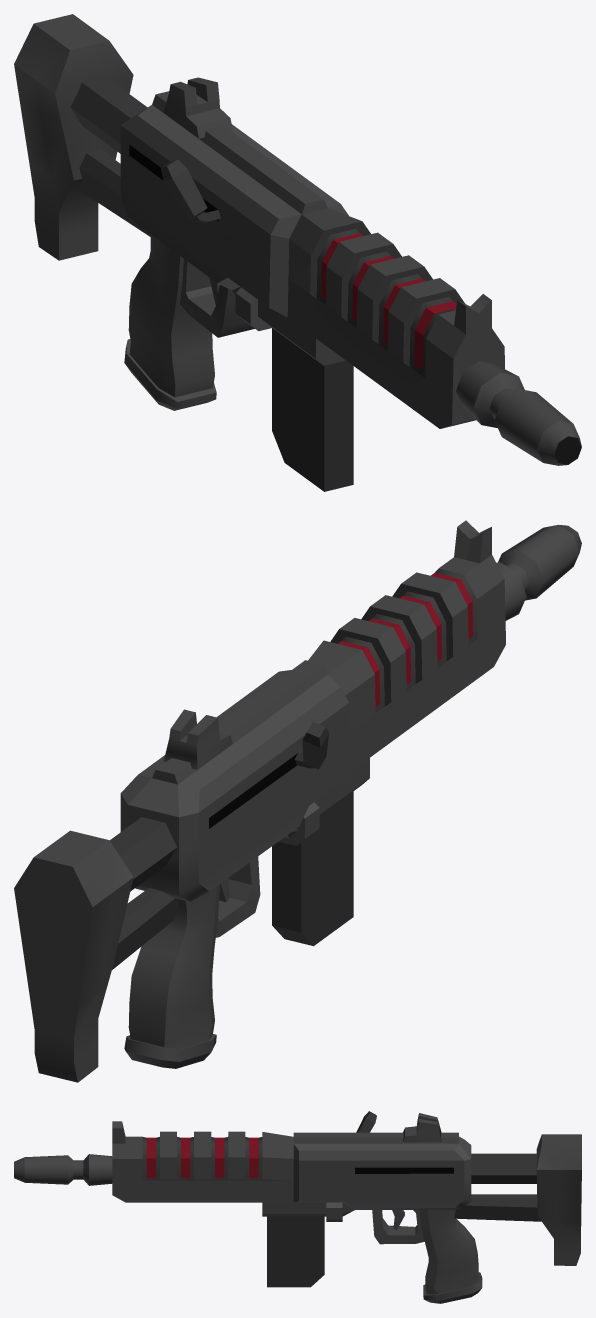
File: Laser Carbine.fbx
3 views of the same model, one above another, from view 1: azimuth 30°, elevation 25°; view 2: azimuth 150°, elevation 25°; view 3: azimuth 270°, elevation 25° (orthographic). The views are drawn at different scales.
Visible parts, largest first — view 1: Laser Carbine, Laser Carbine.Magazine; view 2: Laser Carbine, Laser Carbine.Magazine; view 3: Laser Carbine, Laser Carbine.Magazine.
Boxes of the visible parts, box(x1,y1,x2,y2) form: Laser Carbine: box(14, 14, 581, 465); Laser Carbine.Magazine: box(272, 328, 353, 491); Laser Carbine: box(14, 520, 581, 1082); Laser Carbine.Magazine: box(272, 791, 353, 946); Laser Carbine: box(14, 1111, 581, 1303); Laser Carbine.Magazine: box(267, 1216, 324, 1287).
Bounding box in the file's own units: 0.1283 × 0.3345 × 0.9525.
